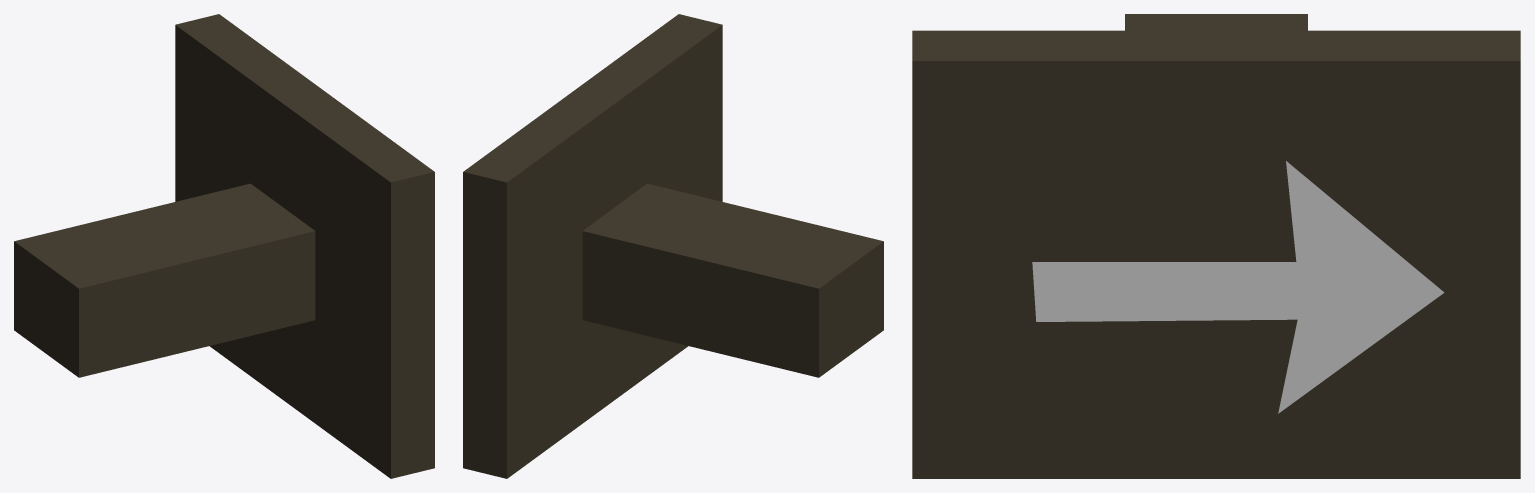
File: signarrow.glb
3 views of the same model, side by side, from view 1: azimuth 30°, elevation 25°; view 2: azimuth 150°, elevation 25°; view 3: azimuth 270°, elevation 25° (orthographic). The views are drawn at different scales.
Parts seen in each view (by area): view 1: Cube; view 2: Cube; view 3: Cube.
Part boxes in pixels (x1=…): Cube: x1=14, y1=14, x2=434, y2=478; Cube: x1=463, y1=14, x2=883, y2=478; Cube: x1=912, y1=14, x2=1520, y2=478.
Size of the model in its own units: 1.98 by 2 by 2.64.
